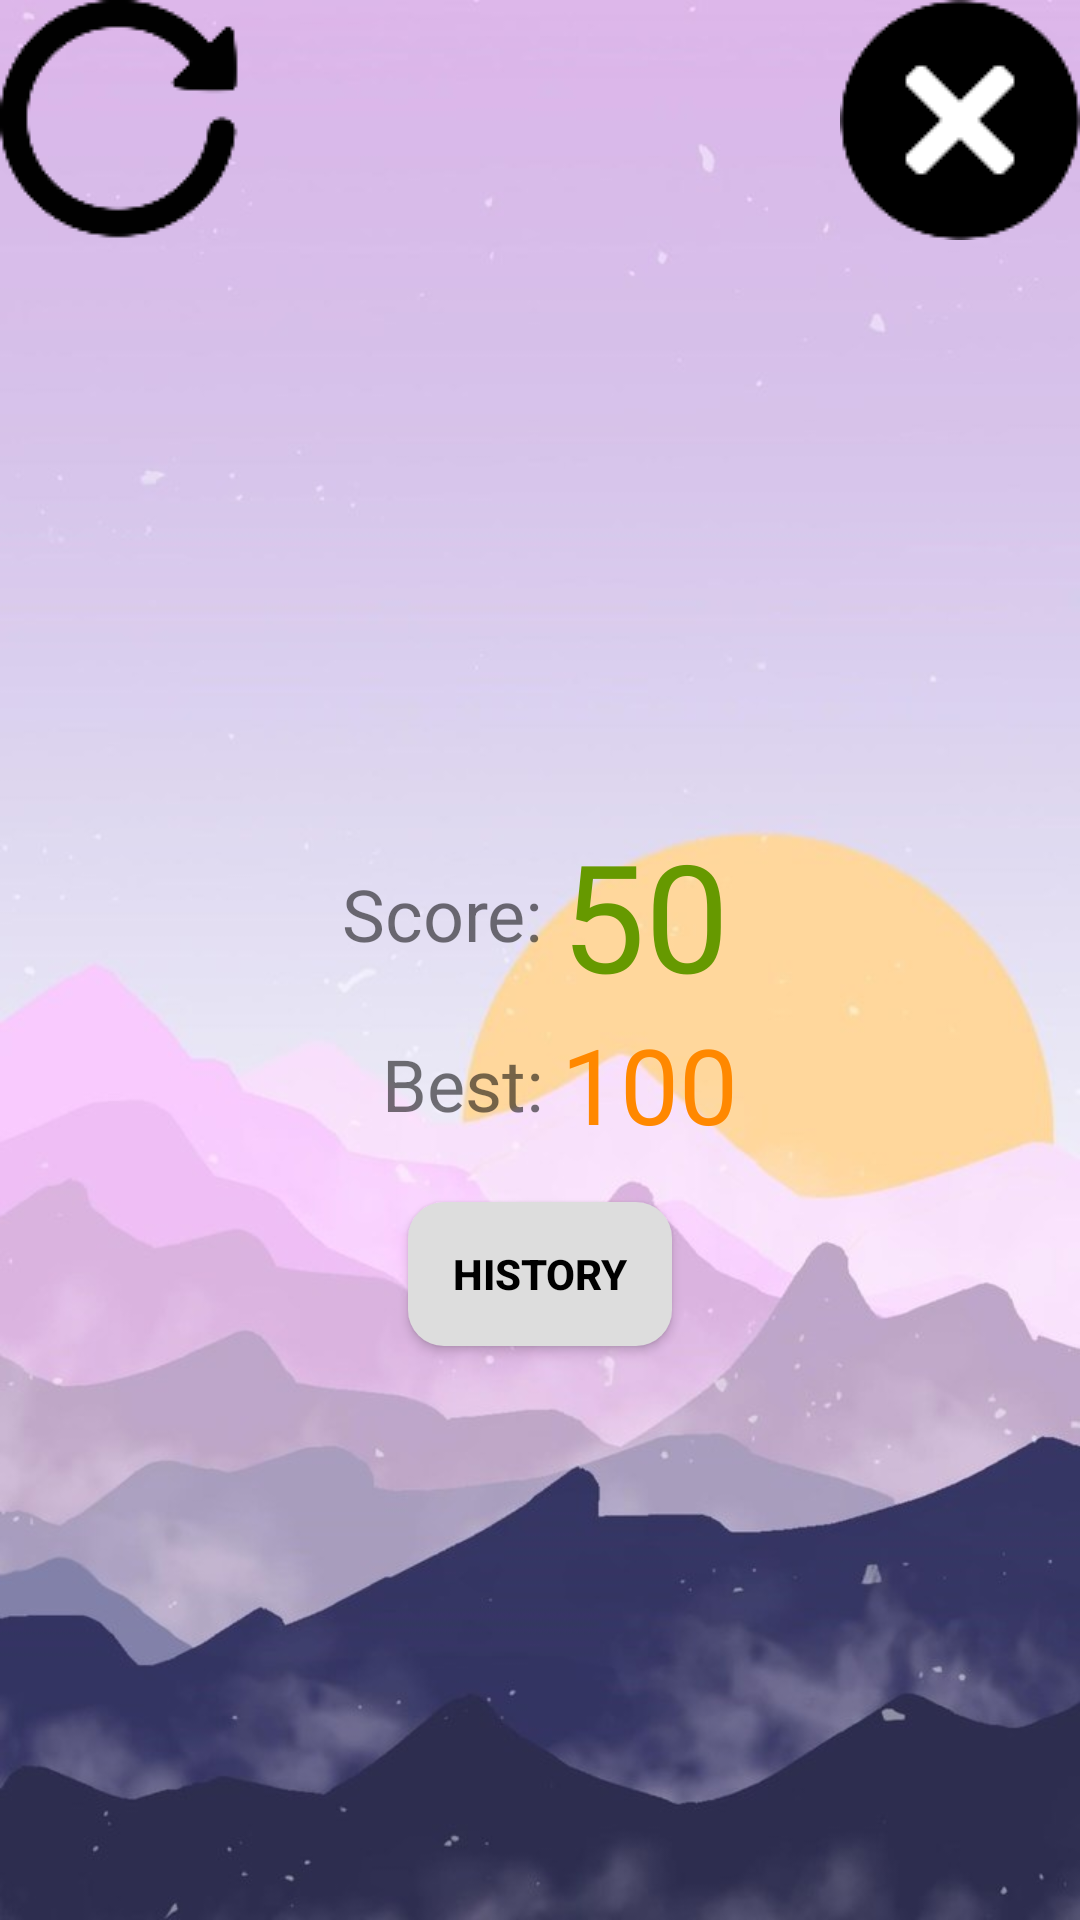

Where icons sit on this 1080 × 1920 app screen, as (x1, y1, x2, y2):
exit: (840, 0, 1080, 240)
restart: (0, 0, 238, 238)
